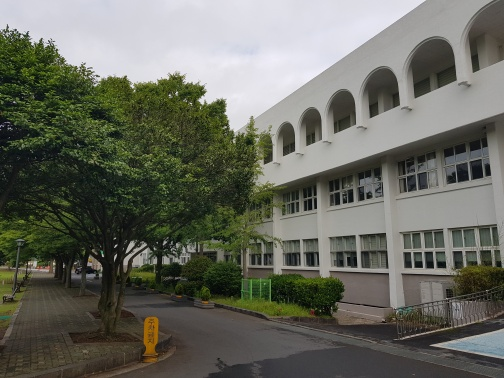Main Building of University: (257, 20, 496, 328), (275, 36, 459, 160)
